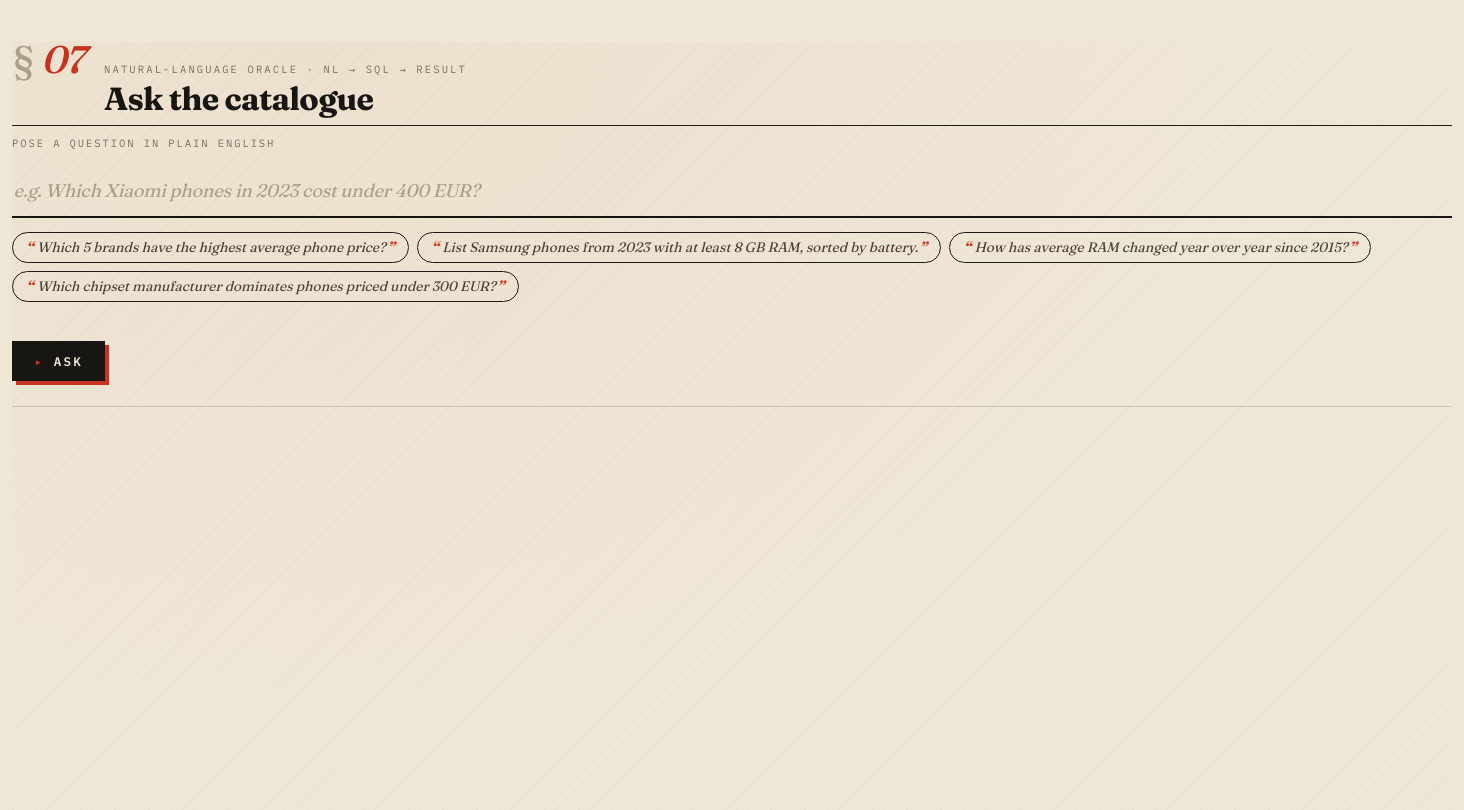
Scenario: AskView › renders SQL tokens incrementally and shows the phase label
This screenshot has width=1464, height=810.
Type "q" into the field with placeholder "e.g. Which Xiaomi phones in 2023 cost under 400 EUR?".
click(732, 192); type("q")  # box x1=12 y1=166 x2=1452 y2=218
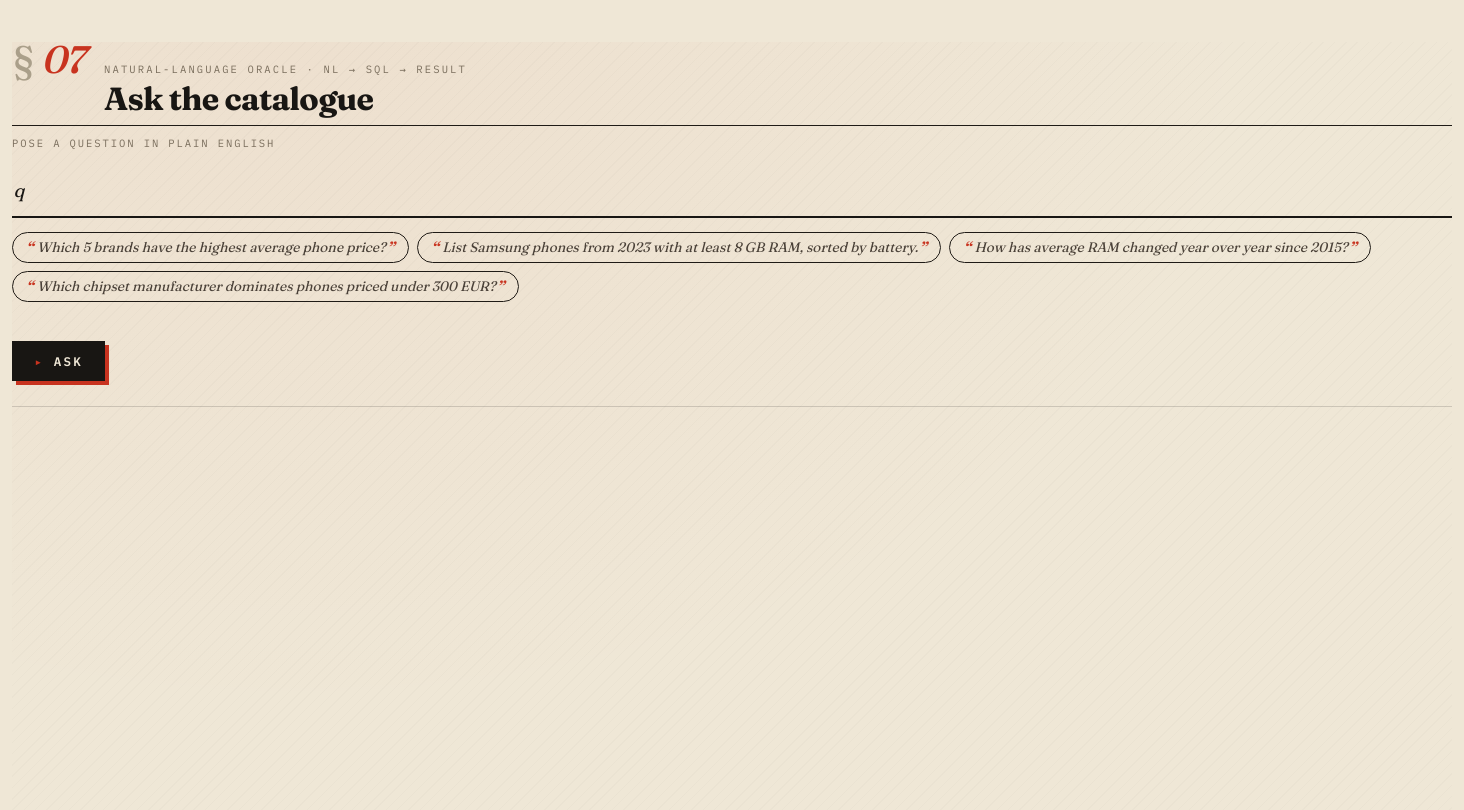
Click the button "Ask".
click(59, 361)  # box x1=12 y1=341 x2=105 y2=381
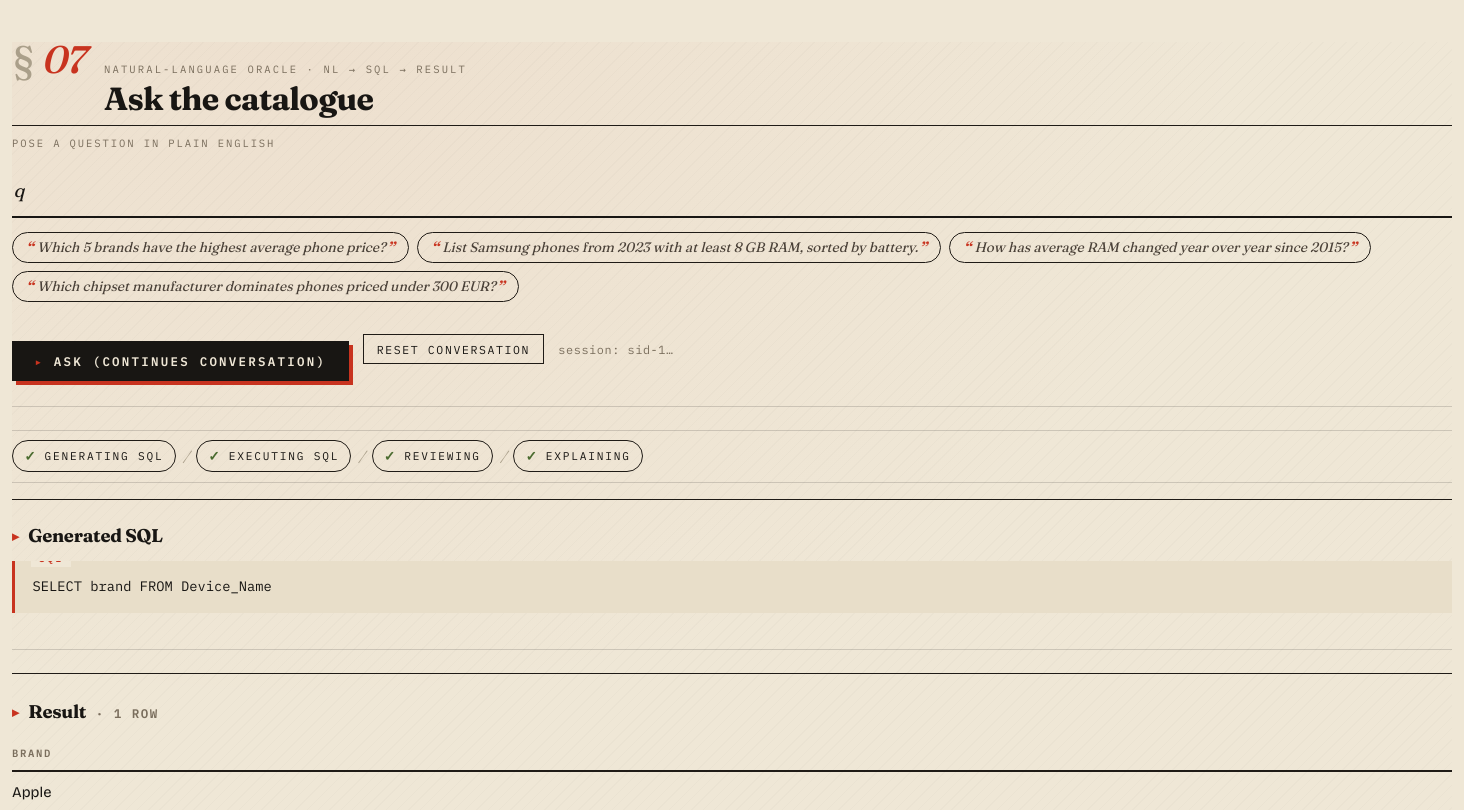
Check: the text "SELECT brand FROM Device_Name" is shown, box x1=12 y1=561 x2=1452 y2=613
